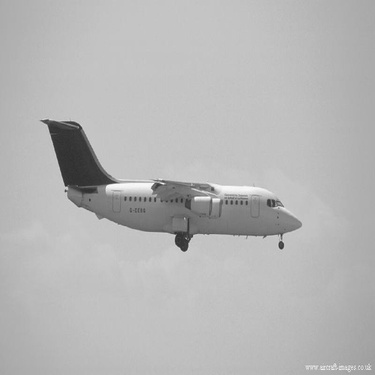airplane: (35, 106, 305, 256)
